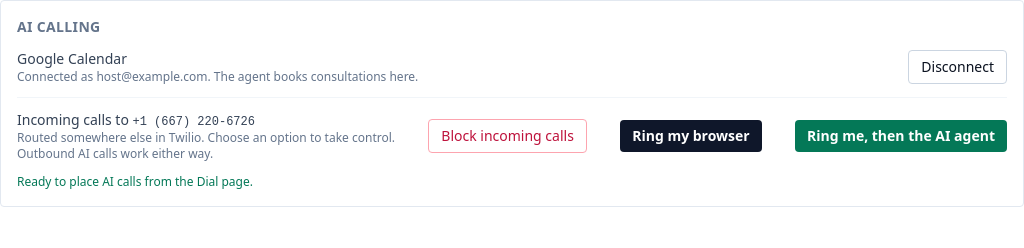
it: AiCallingSettings incoming calls › offers every option when Twilio routes the number elsewhere, and shows failures
Expected: the button "Ring my browser" is shown, 620,120 -> 762,152
Click the button "Block incoming calls" at [508, 136], box 428,119 -> 587,153
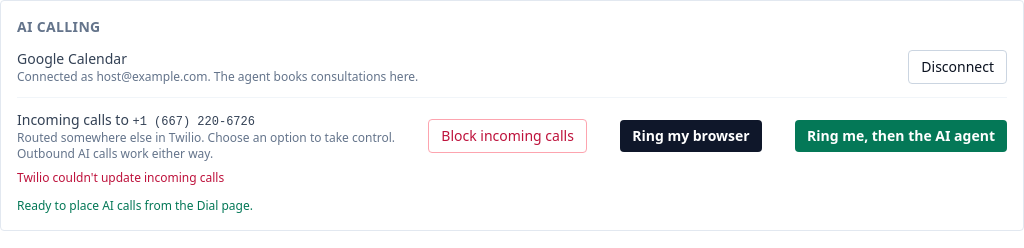
Expected: the text "Twilio couldn't update incoming calls" is shown, 17,169 -> 224,186
